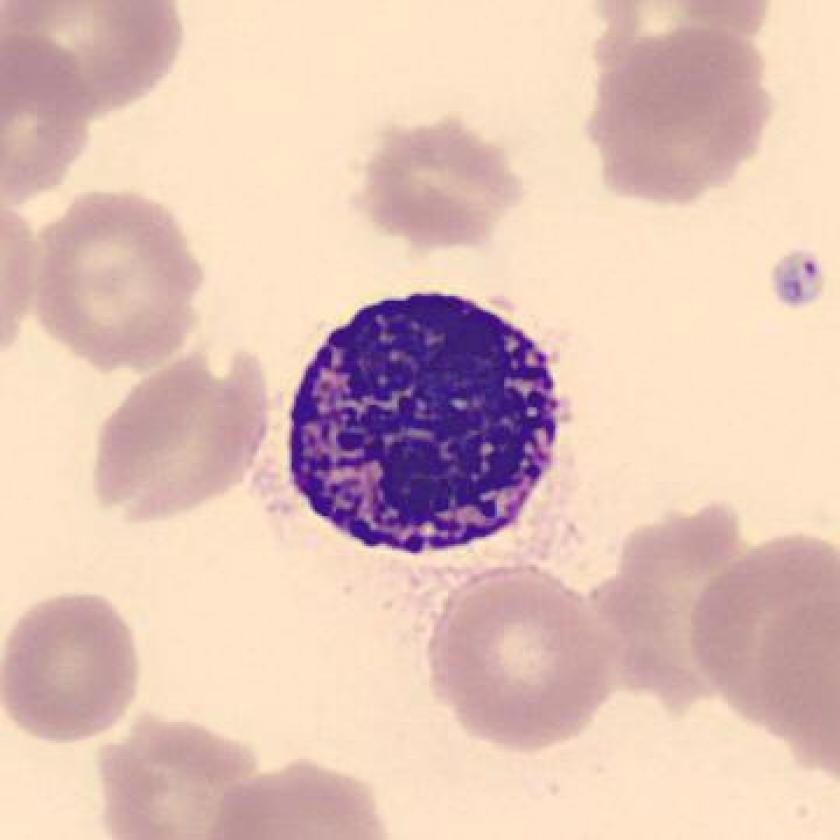basophil: (272, 277, 580, 557)
